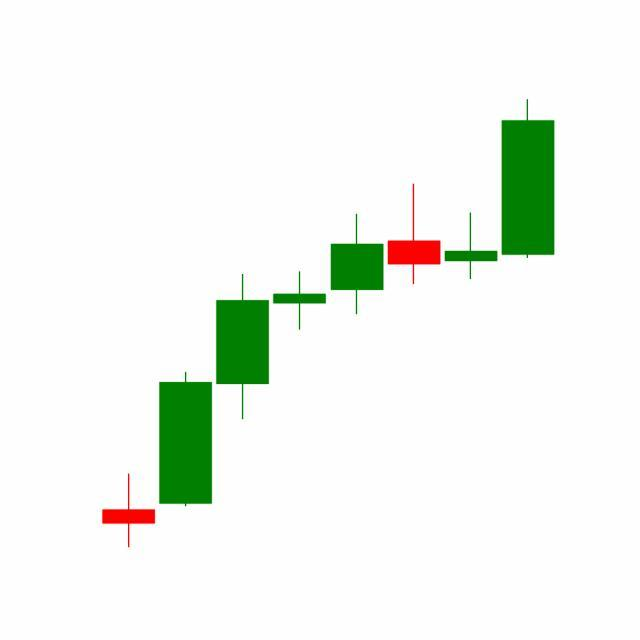Hikkake Pattern: (270, 100, 555, 335)
